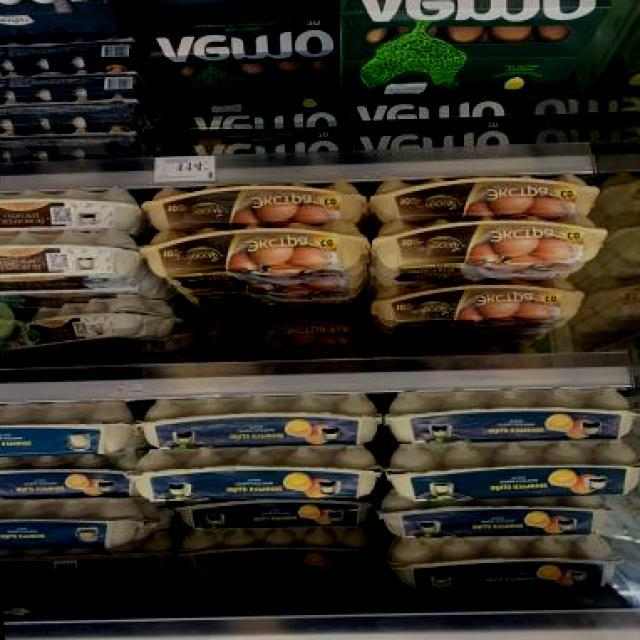egg: (373, 212, 609, 287), (385, 434, 640, 502), (139, 220, 370, 292), (384, 380, 640, 443), (386, 532, 624, 598), (130, 447, 382, 505), (142, 392, 382, 450), (381, 492, 618, 543), (140, 179, 370, 231), (174, 522, 383, 579), (370, 172, 600, 223), (369, 278, 588, 329), (0, 293, 180, 355), (0, 224, 144, 295), (0, 494, 164, 551), (0, 447, 138, 502), (0, 182, 139, 236), (0, 400, 134, 456), (202, 312, 368, 355)
